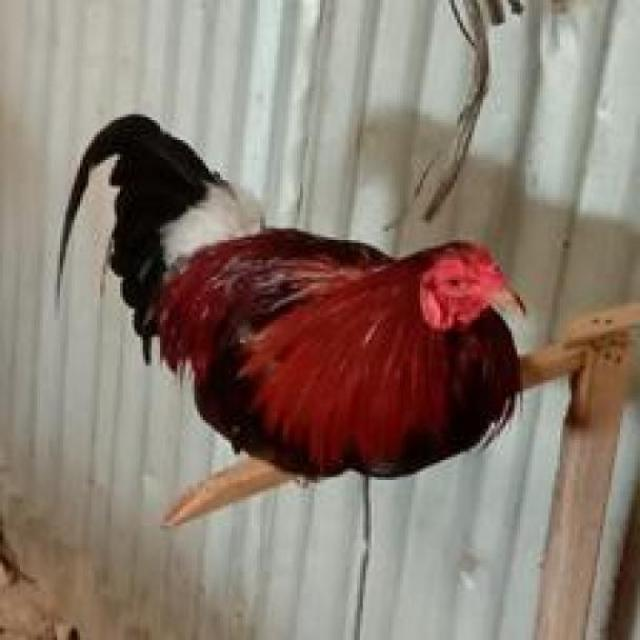Chicken: (66, 84, 574, 523)
